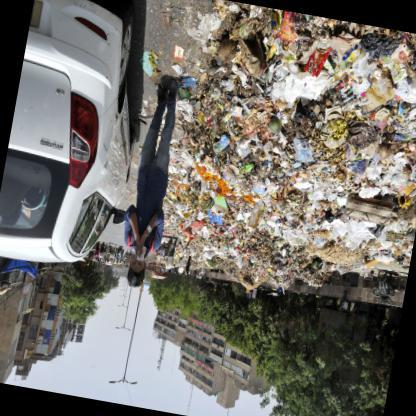Garbage: (170, 61, 366, 271), (173, 90, 348, 284), (206, 3, 362, 209), (248, 61, 416, 244), (213, 2, 358, 156), (271, 111, 415, 266), (305, 19, 415, 189), (165, 74, 215, 250)
